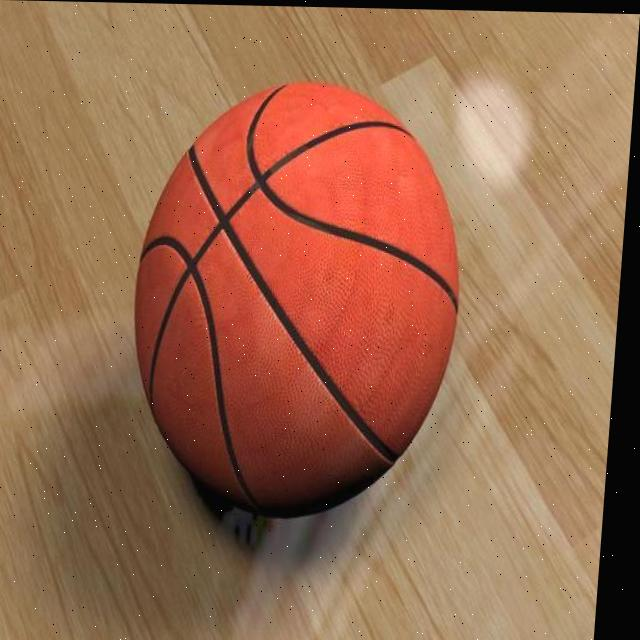Basketball: (117, 84, 472, 521)
